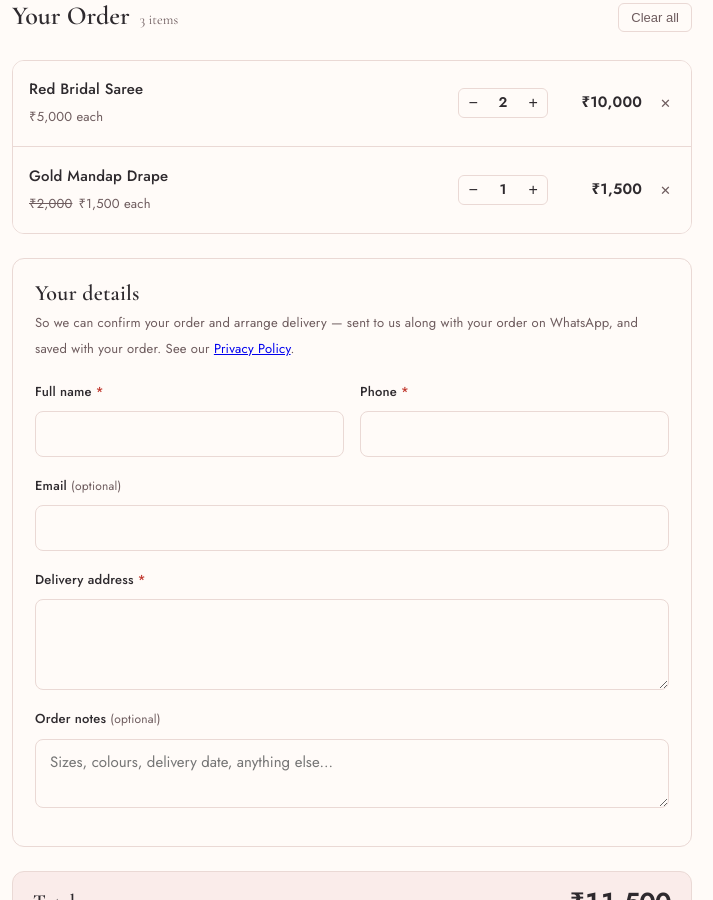
Test: placing an order › rejects a malformed email before reaching the server
Expected: the text "Red Bridal Saree" is shown, 29,77 -> 143,102
Type "Asha" into the field labelled "Full name *" at (190,434), box 35,411 -> 344,457
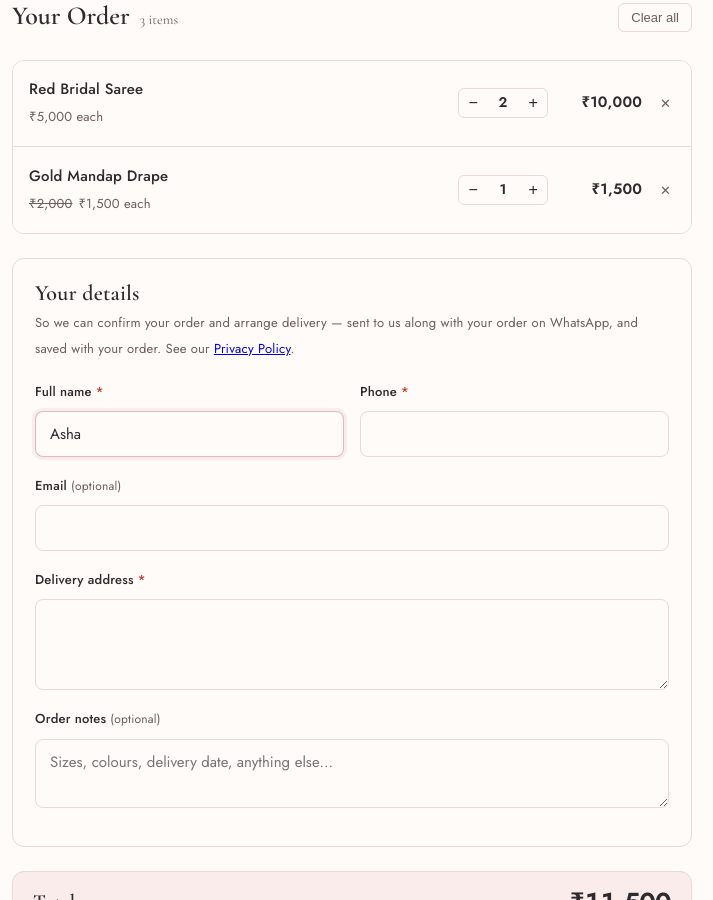
Type "9876543210" into the field labelled "Phone *" at (514,434), box 360,411 -> 669,457
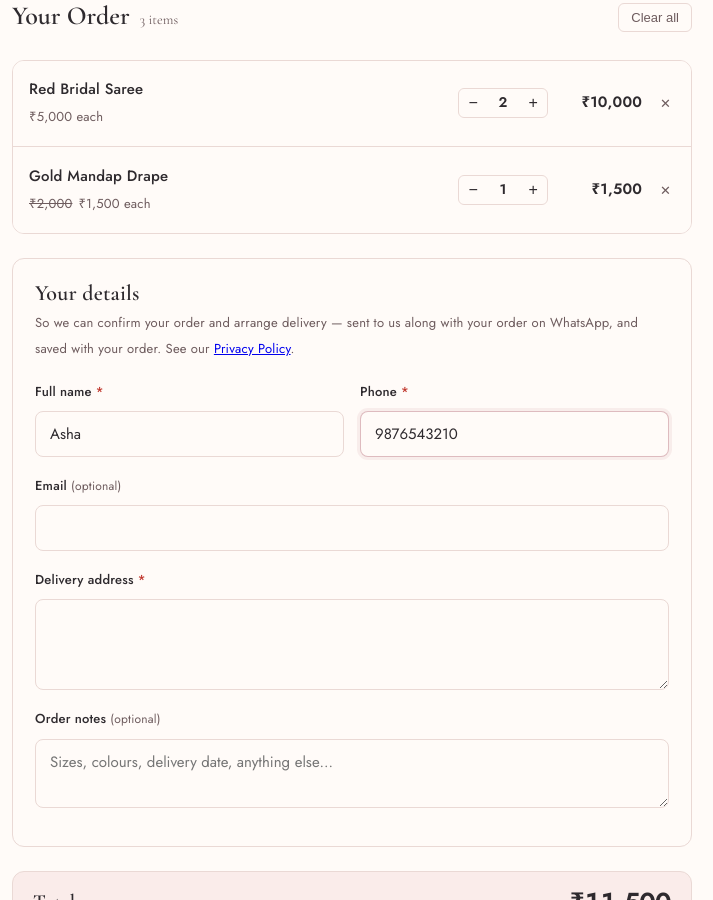
Type "not-an-email" into the field labelled "Email (optional)" at (352,528), box 35,505 -> 669,551
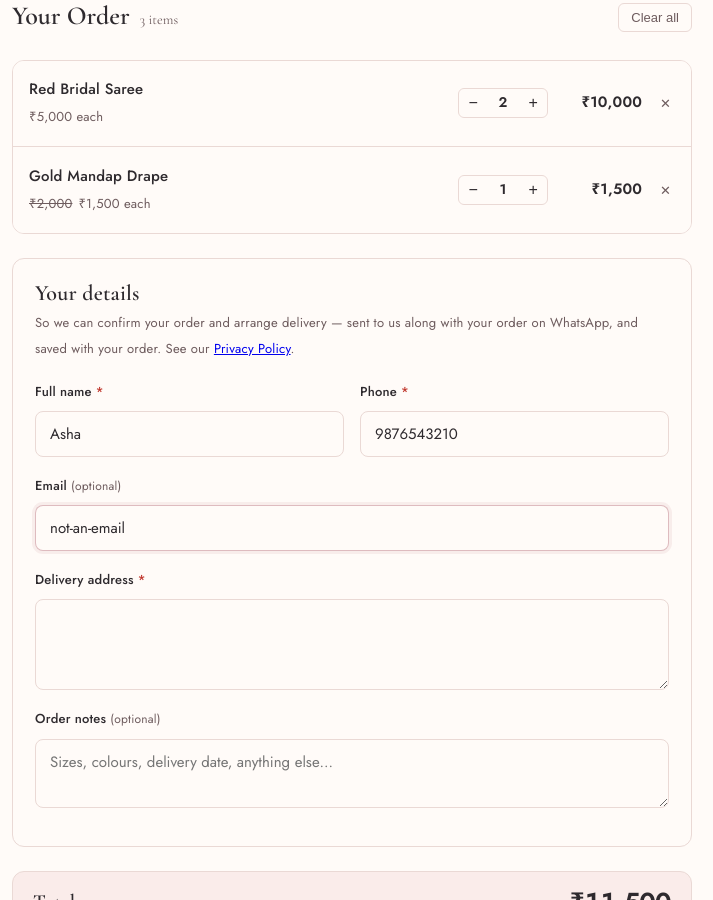
Type "12 Rose Street" into the text box labelled "Delivery address *" at (352,644), box 35,599 -> 669,690
(page scrolled)
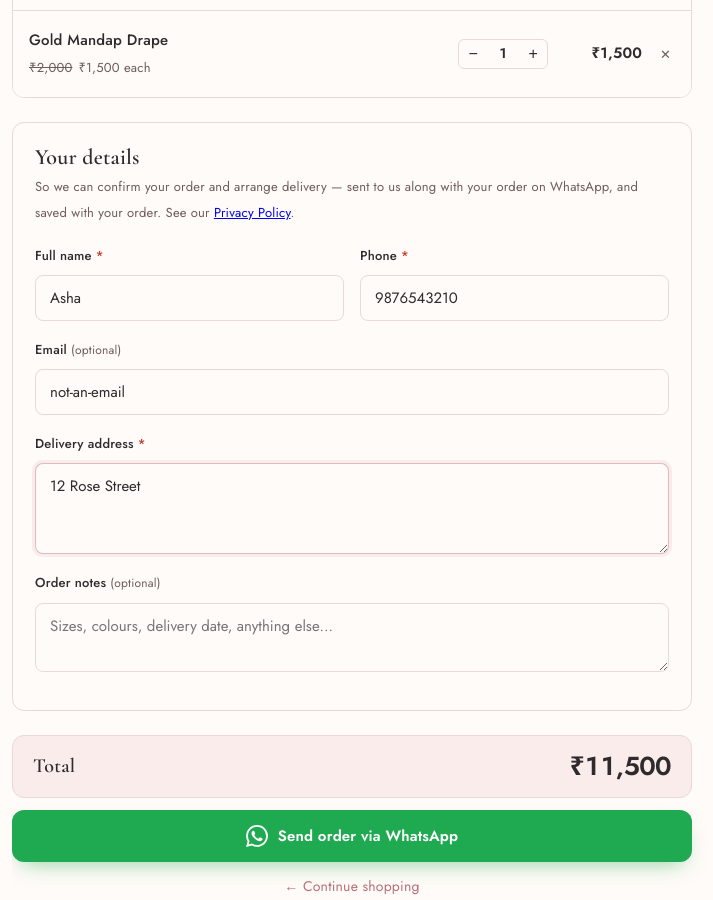
Click the button "Send order via WhatsApp" at (352,836), box 12,810 -> 692,862
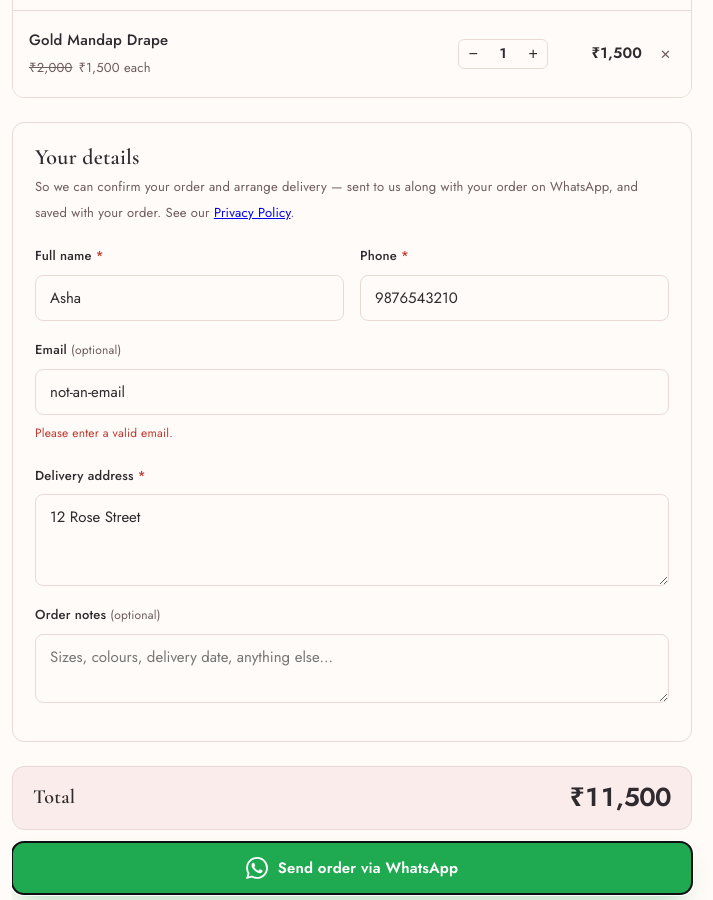
Expected: the text "Please enter a valid email." is shown, 35,424 -> 173,442
